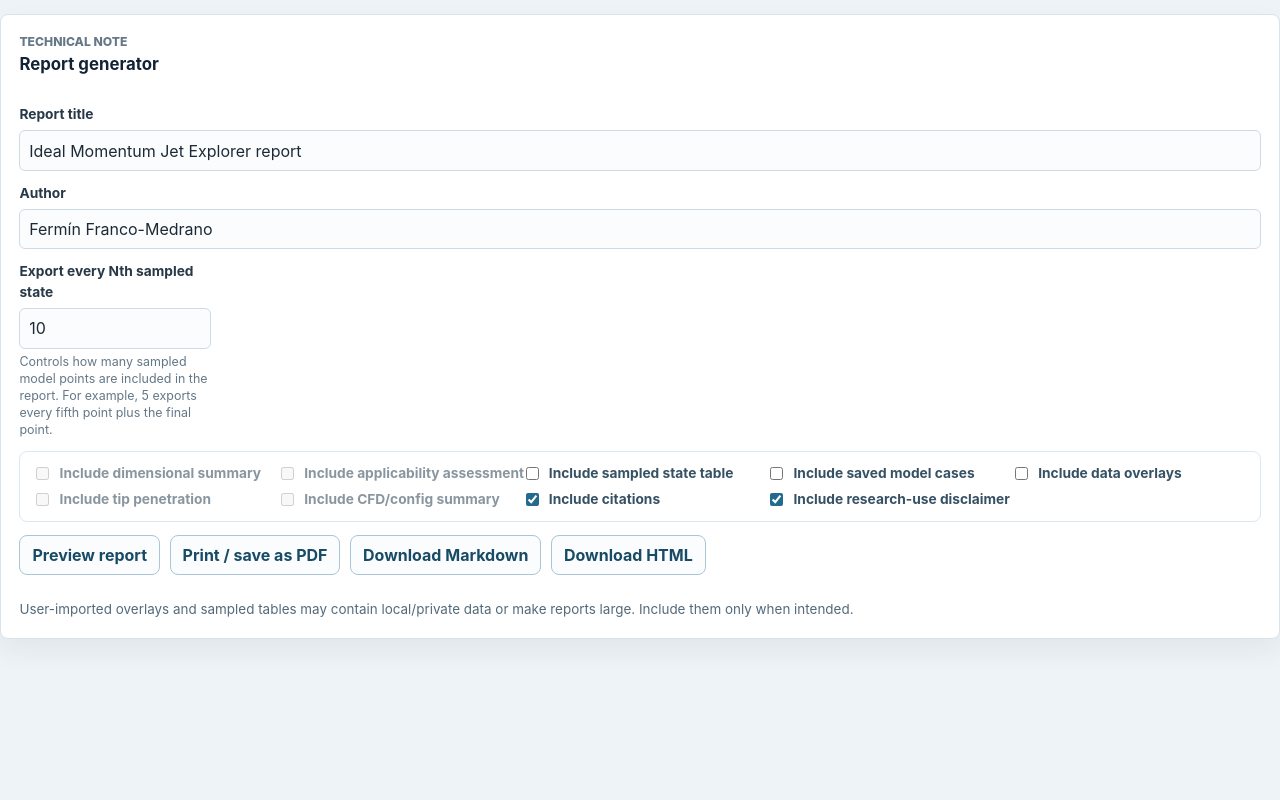
Scenario: ReportPanel › renders report controls and previews a report
Expected: the heading "Report generator" is shown, [19,54,159,75]
Expected: the text "Export every Nth sampled state" is shown, [19,261,211,303]
Click the button "Preview report" at (90, 555), box [19,535,160,575]
(page scrolled)
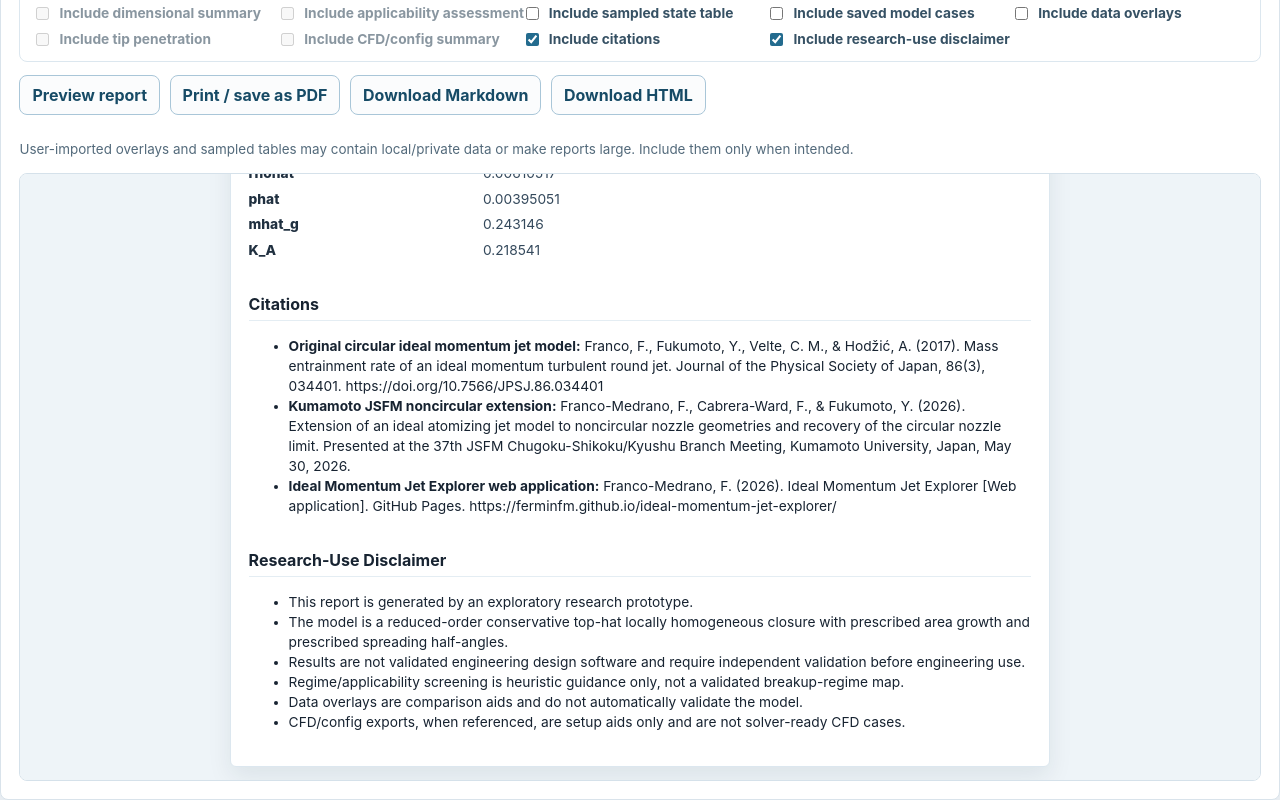
Expected: the heading "Research-Use Disclaimer" is shown, [249,548,1031,577]
